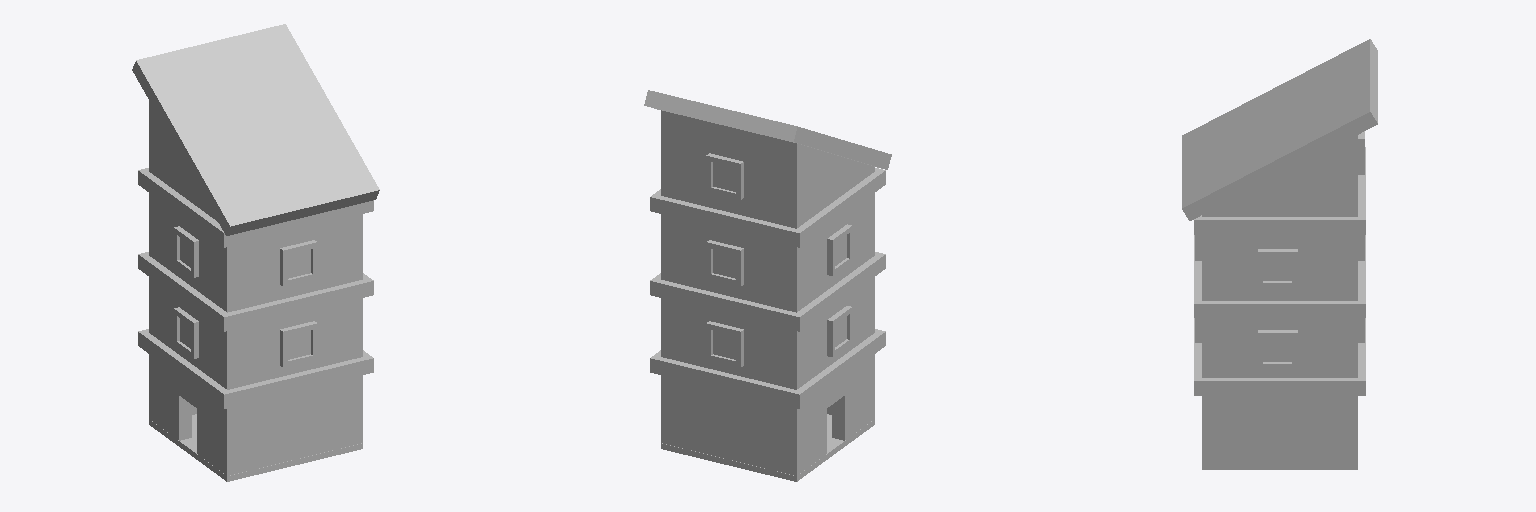
The model's file is UrbanCityHouse.obj.
3 views of the same model, side by side, from view 1: azimuth 30°, elevation 25°; view 2: azimuth 150°, elevation 25°; view 3: azimuth 270°, elevation 25° (orthographic).
Visible parts, largest first — view 1: Counter_Cube; view 2: Counter_Cube; view 3: Counter_Cube.
Part boxes in pixels (x1,y1,x2,y2): Counter_Cube: (132,24,379,481); Counter_Cube: (644,90,891,481); Counter_Cube: (1182,39,1377,469).
Bounding box in the file's own units: 124 × 285 × 141.